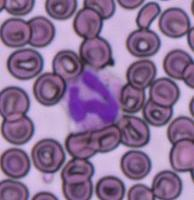N: (63, 66, 122, 132)
